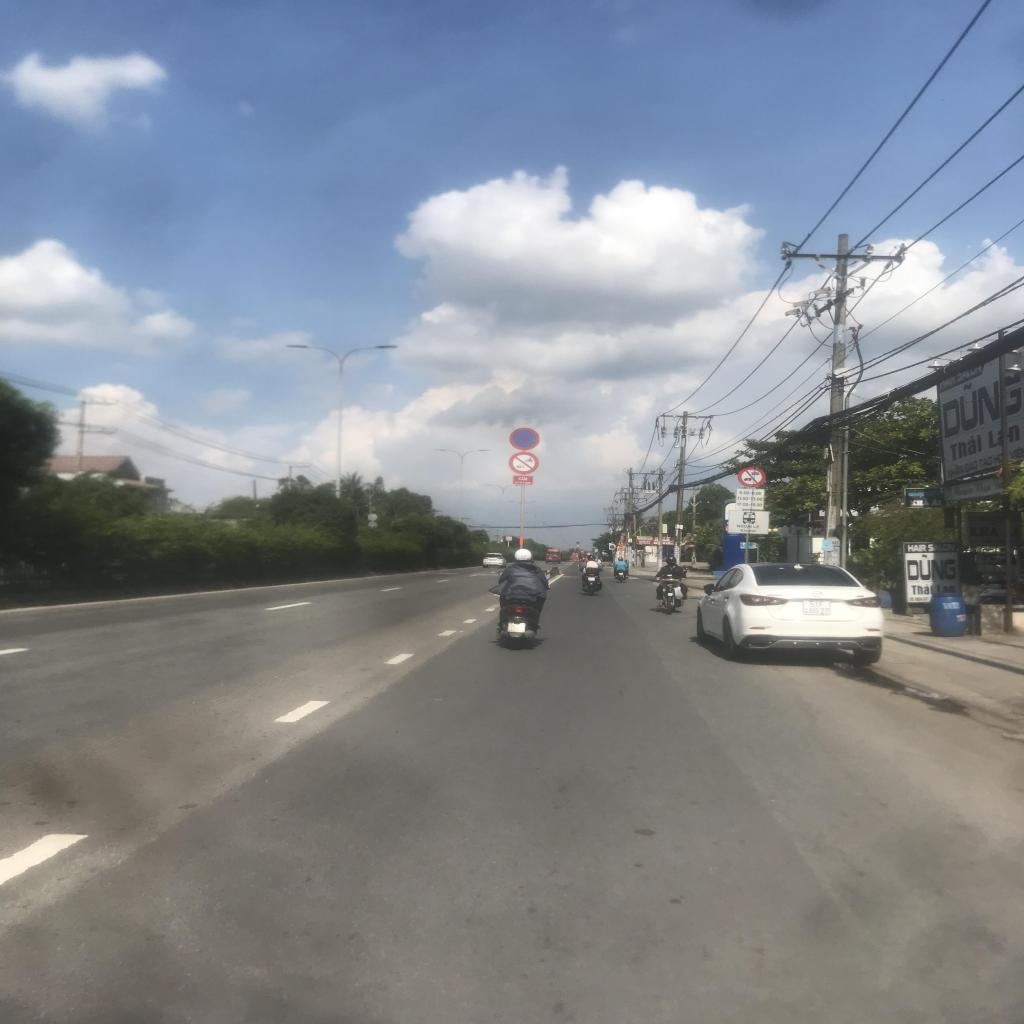cam_dung_xe_va_do_xe: (508, 427, 540, 452)
cam_o_to_tai_va_xe_khach: (737, 467, 766, 488)
cam_xe_2_banh_va_xe_3_banh_co_dong_co: (507, 451, 539, 474)
chu_y_tre_em: (617, 546, 625, 551)
giao_nhau_voi_duong_khong_uu_tien: (617, 540, 624, 546)
khac: (726, 510, 769, 534), (737, 490, 765, 509)
